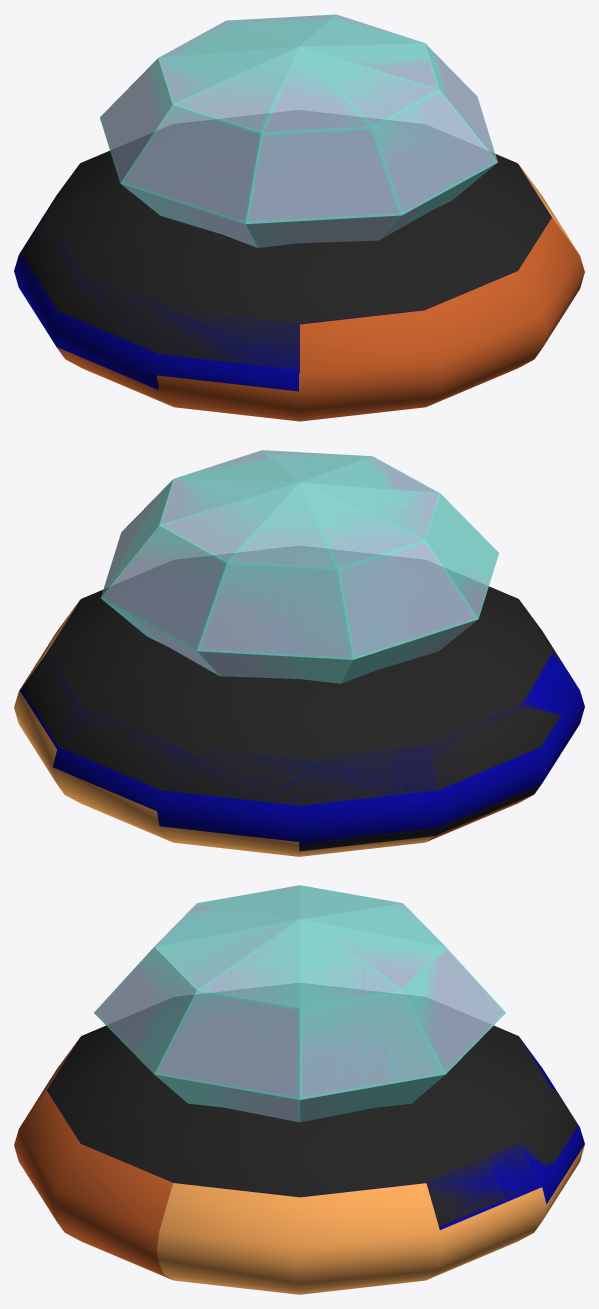
File: Gems.fbx
The picture shows the model from 3 angles, top to bottom: view 1: azimuth 30°, elevation 25°; view 2: azimuth 150°, elevation 25°; view 3: azimuth 270°, elevation 25°; orthographic projection.
Visible parts, largest first — view 1: OGemBlack01, Diamond02B, GemAquamarineC02B, OGemRBrown01, Diamond02A, GemAquamarineC02A, OGemBlue01; view 2: OGemBlack01, Diamond02B, Diamond02A, GemAquamarineC02B, GemAquamarineC02A, OGemBlue01, OGemFireOpal01; view 3: OGemBlack01, Diamond02A, Diamond02B, GemAquamarineC02A, OGemFireOpal01, GemAquamarineC02B, OGemRBrown01, OGemBlue01.
Boxes of the visible parts, x1=… form: OGemBlack01: x1=20, y1=150, x2=551, y2=369; Diamond02B: x1=102, y1=15, x2=495, y2=247; GemAquamarineC02B: x1=102, y1=15, x2=495, y2=246; OGemRBrown01: x1=57, y1=217, x2=584, y2=421; Diamond02A: x1=100, y1=14, x2=497, y2=247; GemAquamarineC02A: x1=100, y1=14, x2=497, y2=247; OGemBlue01: x1=14, y1=197, x2=551, y2=391; OGemBlack01: x1=21, y1=586, x2=561, y2=851; Diamond02B: x1=103, y1=451, x2=487, y2=679; Diamond02A: x1=101, y1=450, x2=498, y2=683; GemAquamarineC02B: x1=103, y1=451, x2=486, y2=678; GemAquamarineC02A: x1=101, y1=450, x2=498, y2=683; OGemBlue01: x1=20, y1=631, x2=584, y2=850; OGemFireOpal01: x1=14, y1=600, x2=434, y2=856; OGemBlack01: x1=47, y1=1025, x2=578, y2=1226; Diamond02A: x1=94, y1=885, x2=505, y2=1121; Diamond02B: x1=96, y1=886, x2=503, y2=1121; GemAquamarineC02A: x1=94, y1=885, x2=505, y2=1121; OGemFireOpal01: x1=157, y1=1145, x2=584, y2=1294; GemAquamarineC02B: x1=96, y1=887, x2=503, y2=1121; OGemRBrown01: x1=14, y1=1038, x2=172, y2=1279; OGemBlue01: x1=47, y1=1038, x2=584, y2=1229.
Bounding box in the file's own units: 0.0456 × 0.0248 × 0.0456.
